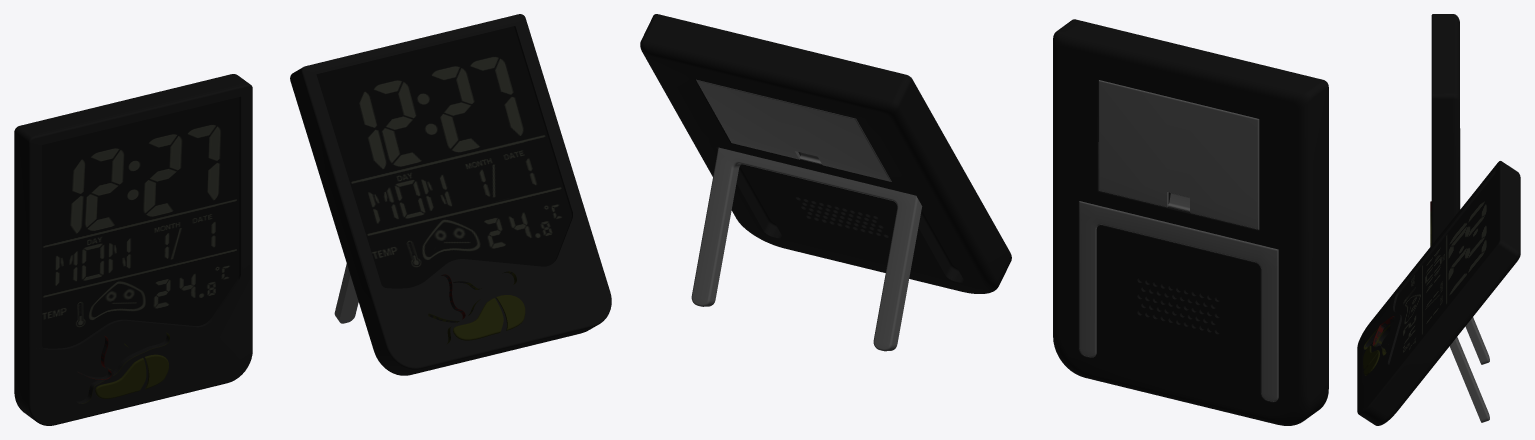
Rendered from digital_thermometer.glb.
3 renders of one model, left to right at view 1: azimuth 30°, elevation 25°; view 2: azimuth 150°, elevation 25°; view 3: azimuth 270°, elevation 25°, orthographic. The views are drawn at different scales.
Visible parts, largest first — view 1: case.001_1, case_0, buttons(g).001_13, buttons(g)_12, stand_16; view 2: case_0, case.001_1, lid_14, stand_16, lid.001_15, stand.001_17; view 3: case.001_1, case_0, stand_16, buttons(g).001_13.
Part boxes in pixels (left/top/right/bottom): case.001_1: left=290, top=14, right=611, bottom=375; case_0: left=14, top=74, right=252, bottom=425; buttons(g).001_13: left=428, top=271, right=525, bottom=344; buttons(g)_12: left=79, top=332, right=169, bottom=403; stand_16: left=334, top=263, right=358, bottom=323; case_0: left=1053, top=19, right=1328, bottom=425; case.001_1: left=640, top=14, right=1011, bottom=293; lid_14: left=1098, top=80, right=1259, bottom=229; stand_16: left=691, top=147, right=922, bottom=351; lid.001_15: left=696, top=79, right=891, bottom=181; stand.001_17: left=1079, top=201, right=1278, bottom=401; case.001_1: left=1357, top=161, right=1520, bottom=425; case_0: left=1431, top=14, right=1459, bottom=244; stand_16: left=1449, top=317, right=1489, bottom=422; buttons(g).001_13: left=1363, top=325, right=1390, bottom=375.
Size of the model in its own units: 4.83 by 2.51 by 1.67.
Materials: 12 (2 with a texture image).
